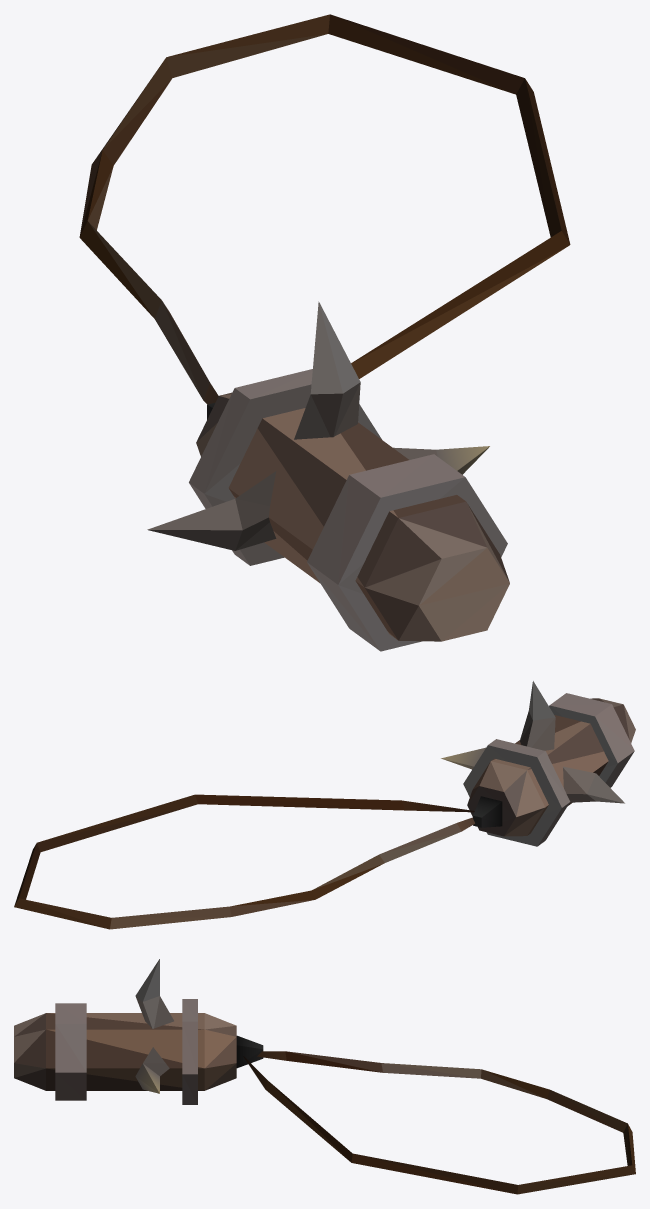
Rendered from prop_treasure_amulet_bronze.fbx.
3 renders of one model, top to bottom at view 1: azimuth 30°, elevation 25°; view 2: azimuth 150°, elevation 25°; view 3: azimuth 270°, elevation 25°, orthographic. The views are drawn at different scales.
Visible parts, largest first — view 1: prop_treasure_amulet_bronze; view 2: prop_treasure_amulet_bronze; view 3: prop_treasure_amulet_bronze.
Part boxes in pixels (x1=…): prop_treasure_amulet_bronze: x1=79, y1=14, x2=570, y2=651; prop_treasure_amulet_bronze: x1=14, y1=681, x2=635, y2=929; prop_treasure_amulet_bronze: x1=14, y1=959, x2=635, y2=1194.
Bounding box in the file's own units: 0.7721 × 0.2678 × 1.12.
